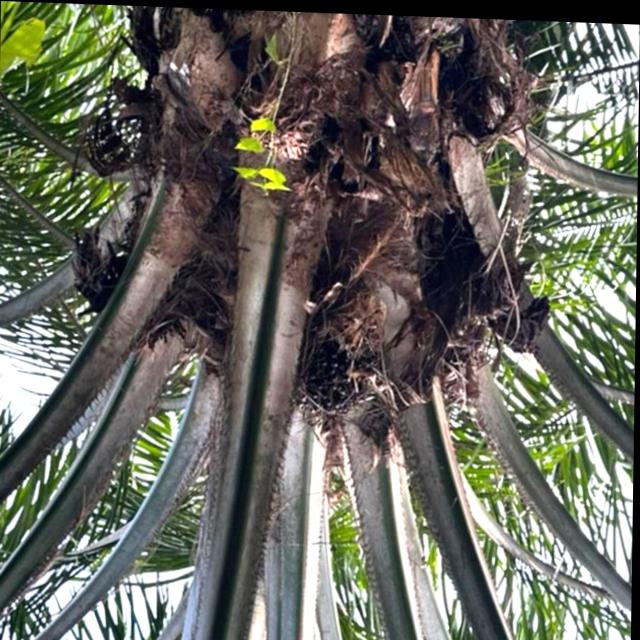unripe: (279, 267, 407, 419)
